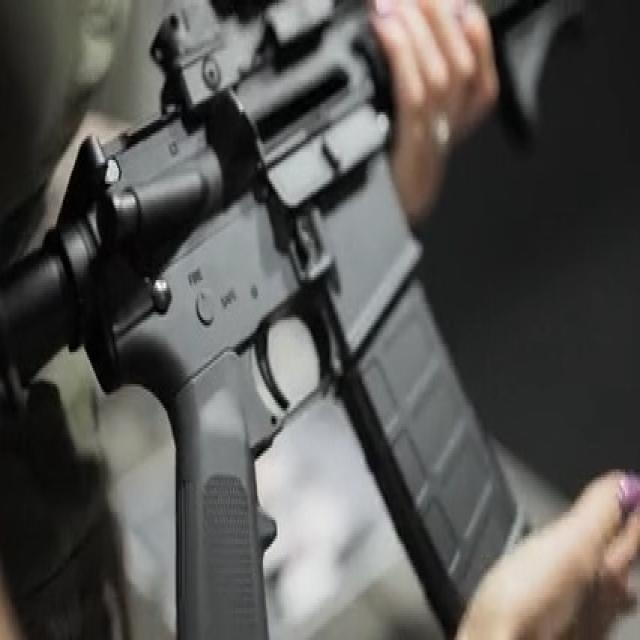Gun_Holder: (29, 0, 630, 640)
